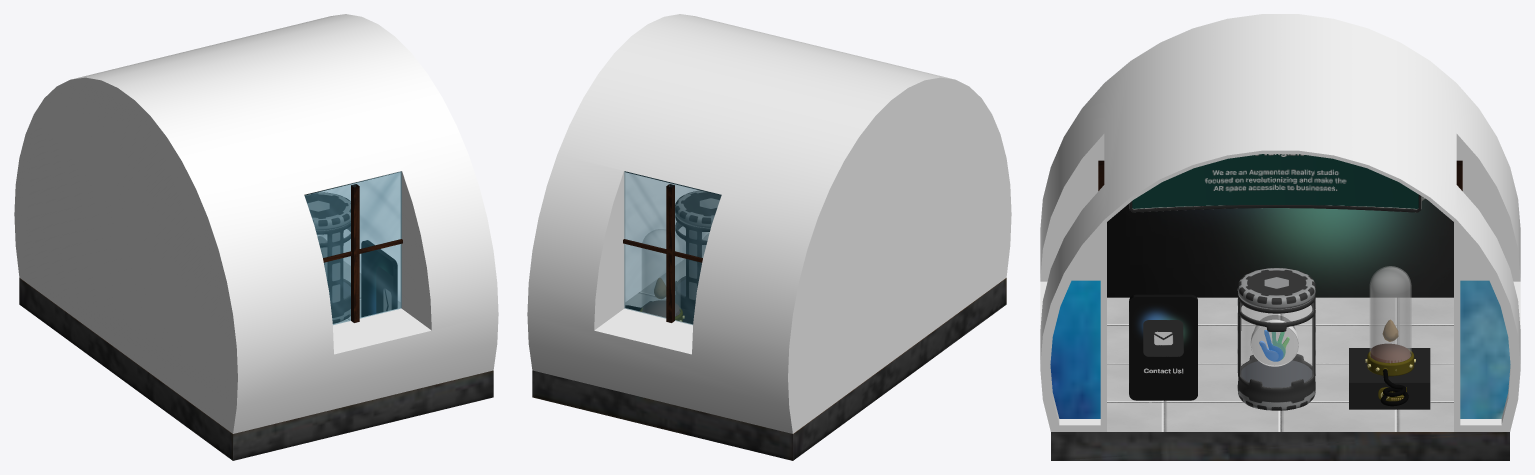
Rendered from tech_room.glb.
3 renders of one model, left to right at view 1: azimuth 30°, elevation 25°; view 2: azimuth 150°, elevation 25°; view 3: azimuth 270°, elevation 25°, orthographic. The views are drawn at different scales.
Visible parts, largest first — view 1: Ground, Windows, low_1, Card_GEo1; view 2: Ground, Windows, low_1, Cylinder611; view 3: Ground, fin_monitor_control_room_01_smd_0, low_1, Card_GEo1, glass_2, Cylinder611, Cube, Cylinder, Cylinder613, Cylinder612, Tube39.
Part boxes in pixels (<box>): Ground: <box>14,14,498,460</box>; Windows: <box>304,171,402,324</box>; low_1: <box>305,192,350,323</box>; Card_GEo1: <box>361,240,397,316</box>; Ground: <box>527,14,1011,460</box>; Windows: <box>623,171,721,324</box>; low_1: <box>675,190,720,311</box>; Cylinder611: <box>642,229,680,317</box>; Ground: <box>1040,14,1520,460</box>; fin_monitor_control_room_01_smd_0: <box>1129,154,1424,212</box>; low_1: <box>1237,268,1315,410</box>; Card_GEo1: <box>1129,294,1197,400</box>; glass_2: <box>1240,303,1313,387</box>; Cylinder611: <box>1370,266,1411,362</box>; Cube: <box>1349,348,1430,409</box>; Cylinder: <box>1251,326,1298,365</box>; Cylinder613: <box>1370,343,1410,362</box>; Cylinder612: <box>1367,349,1414,376</box>; Tube39: <box>1380,369,1408,406</box>.
Size of the model in its own units: 2.75 by 2.92 by 4.09.
Materials: 30 (15 with a texture image).
